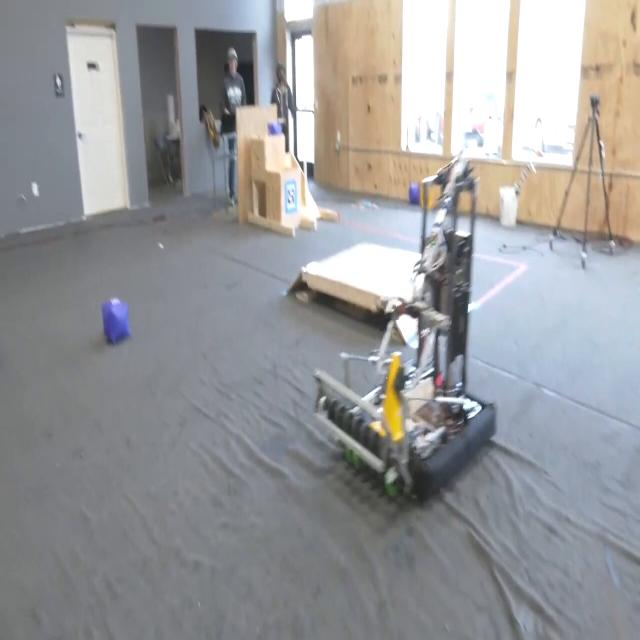frc_cone: (374, 350, 409, 447)
frc_cube: (98, 296, 130, 348), (408, 174, 420, 212), (262, 126, 287, 142)
